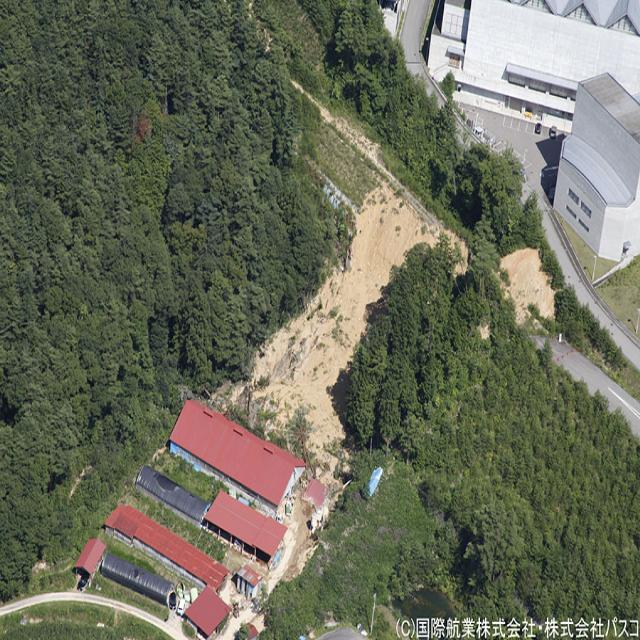Debris-flow: (229, 180, 445, 479), (500, 249, 554, 322)
